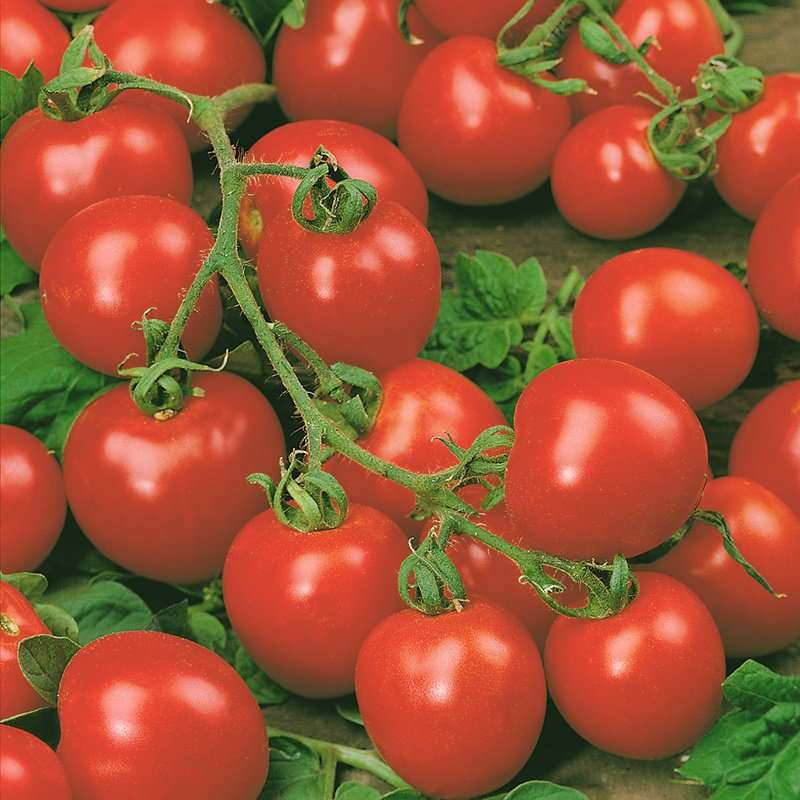tomato: (2, 1, 800, 800)
